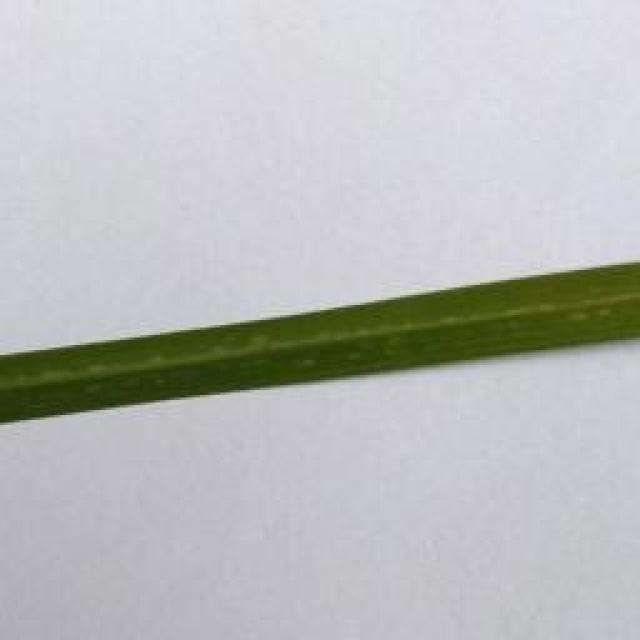Healthy-Plant: (0, 261, 640, 428)
